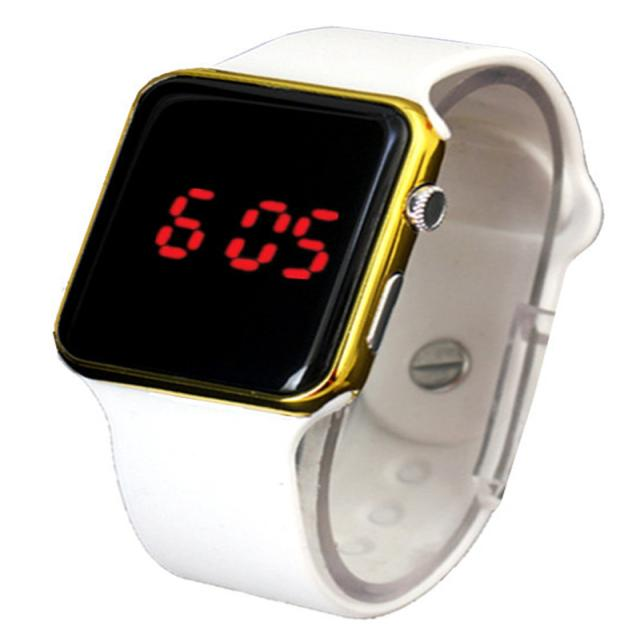watch: (52, 25, 602, 617)
